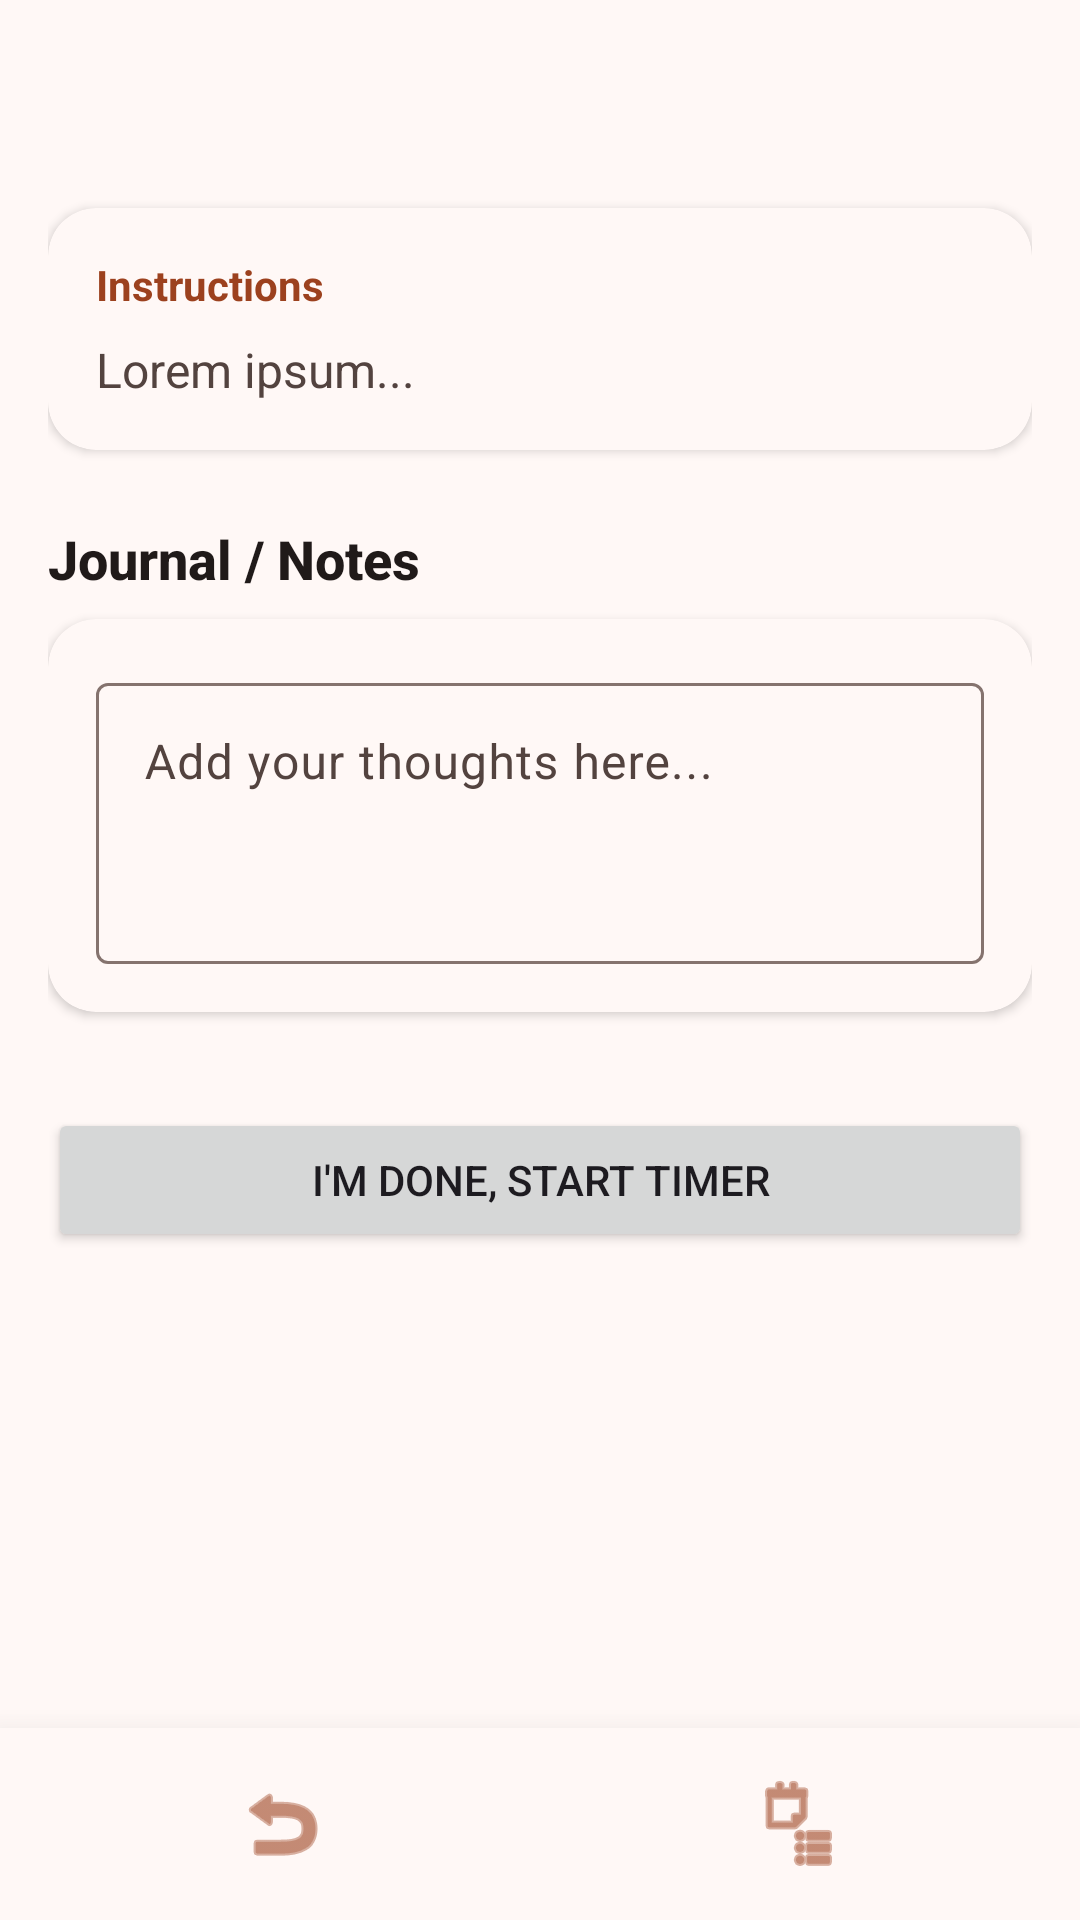

Where to tap for icons on this 1080 x 1920 app screen, as (x,y):
agenda: (798,1823)
revert: (283,1824)
